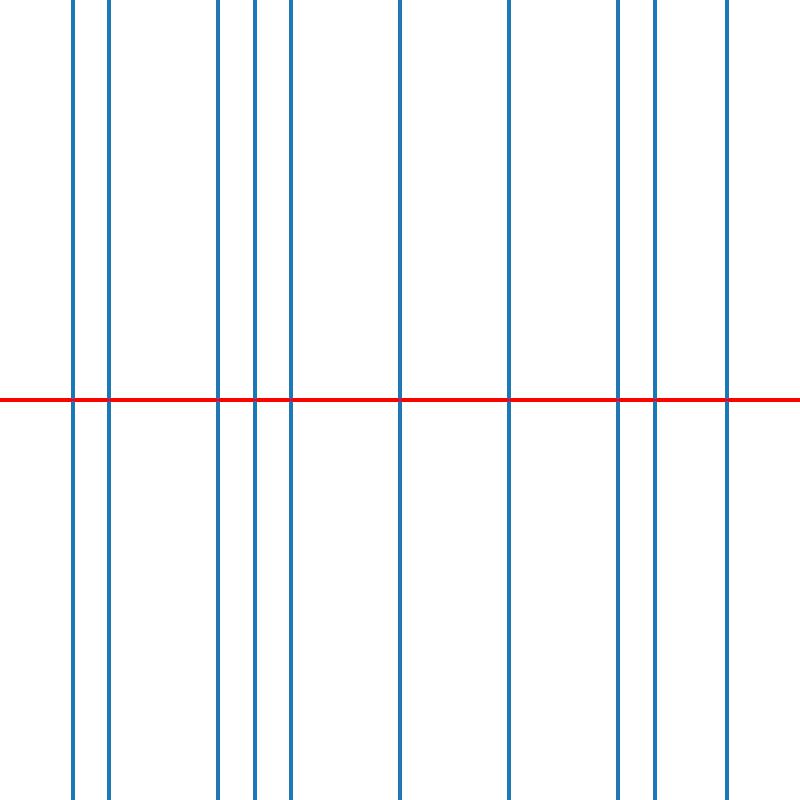root: (650, 396, 658, 404), (250, 396, 258, 404), (287, 396, 294, 404), (396, 396, 403, 404), (505, 396, 512, 404), (105, 396, 112, 404), (69, 396, 76, 404), (723, 396, 730, 404), (214, 396, 221, 404), (614, 396, 621, 404)
